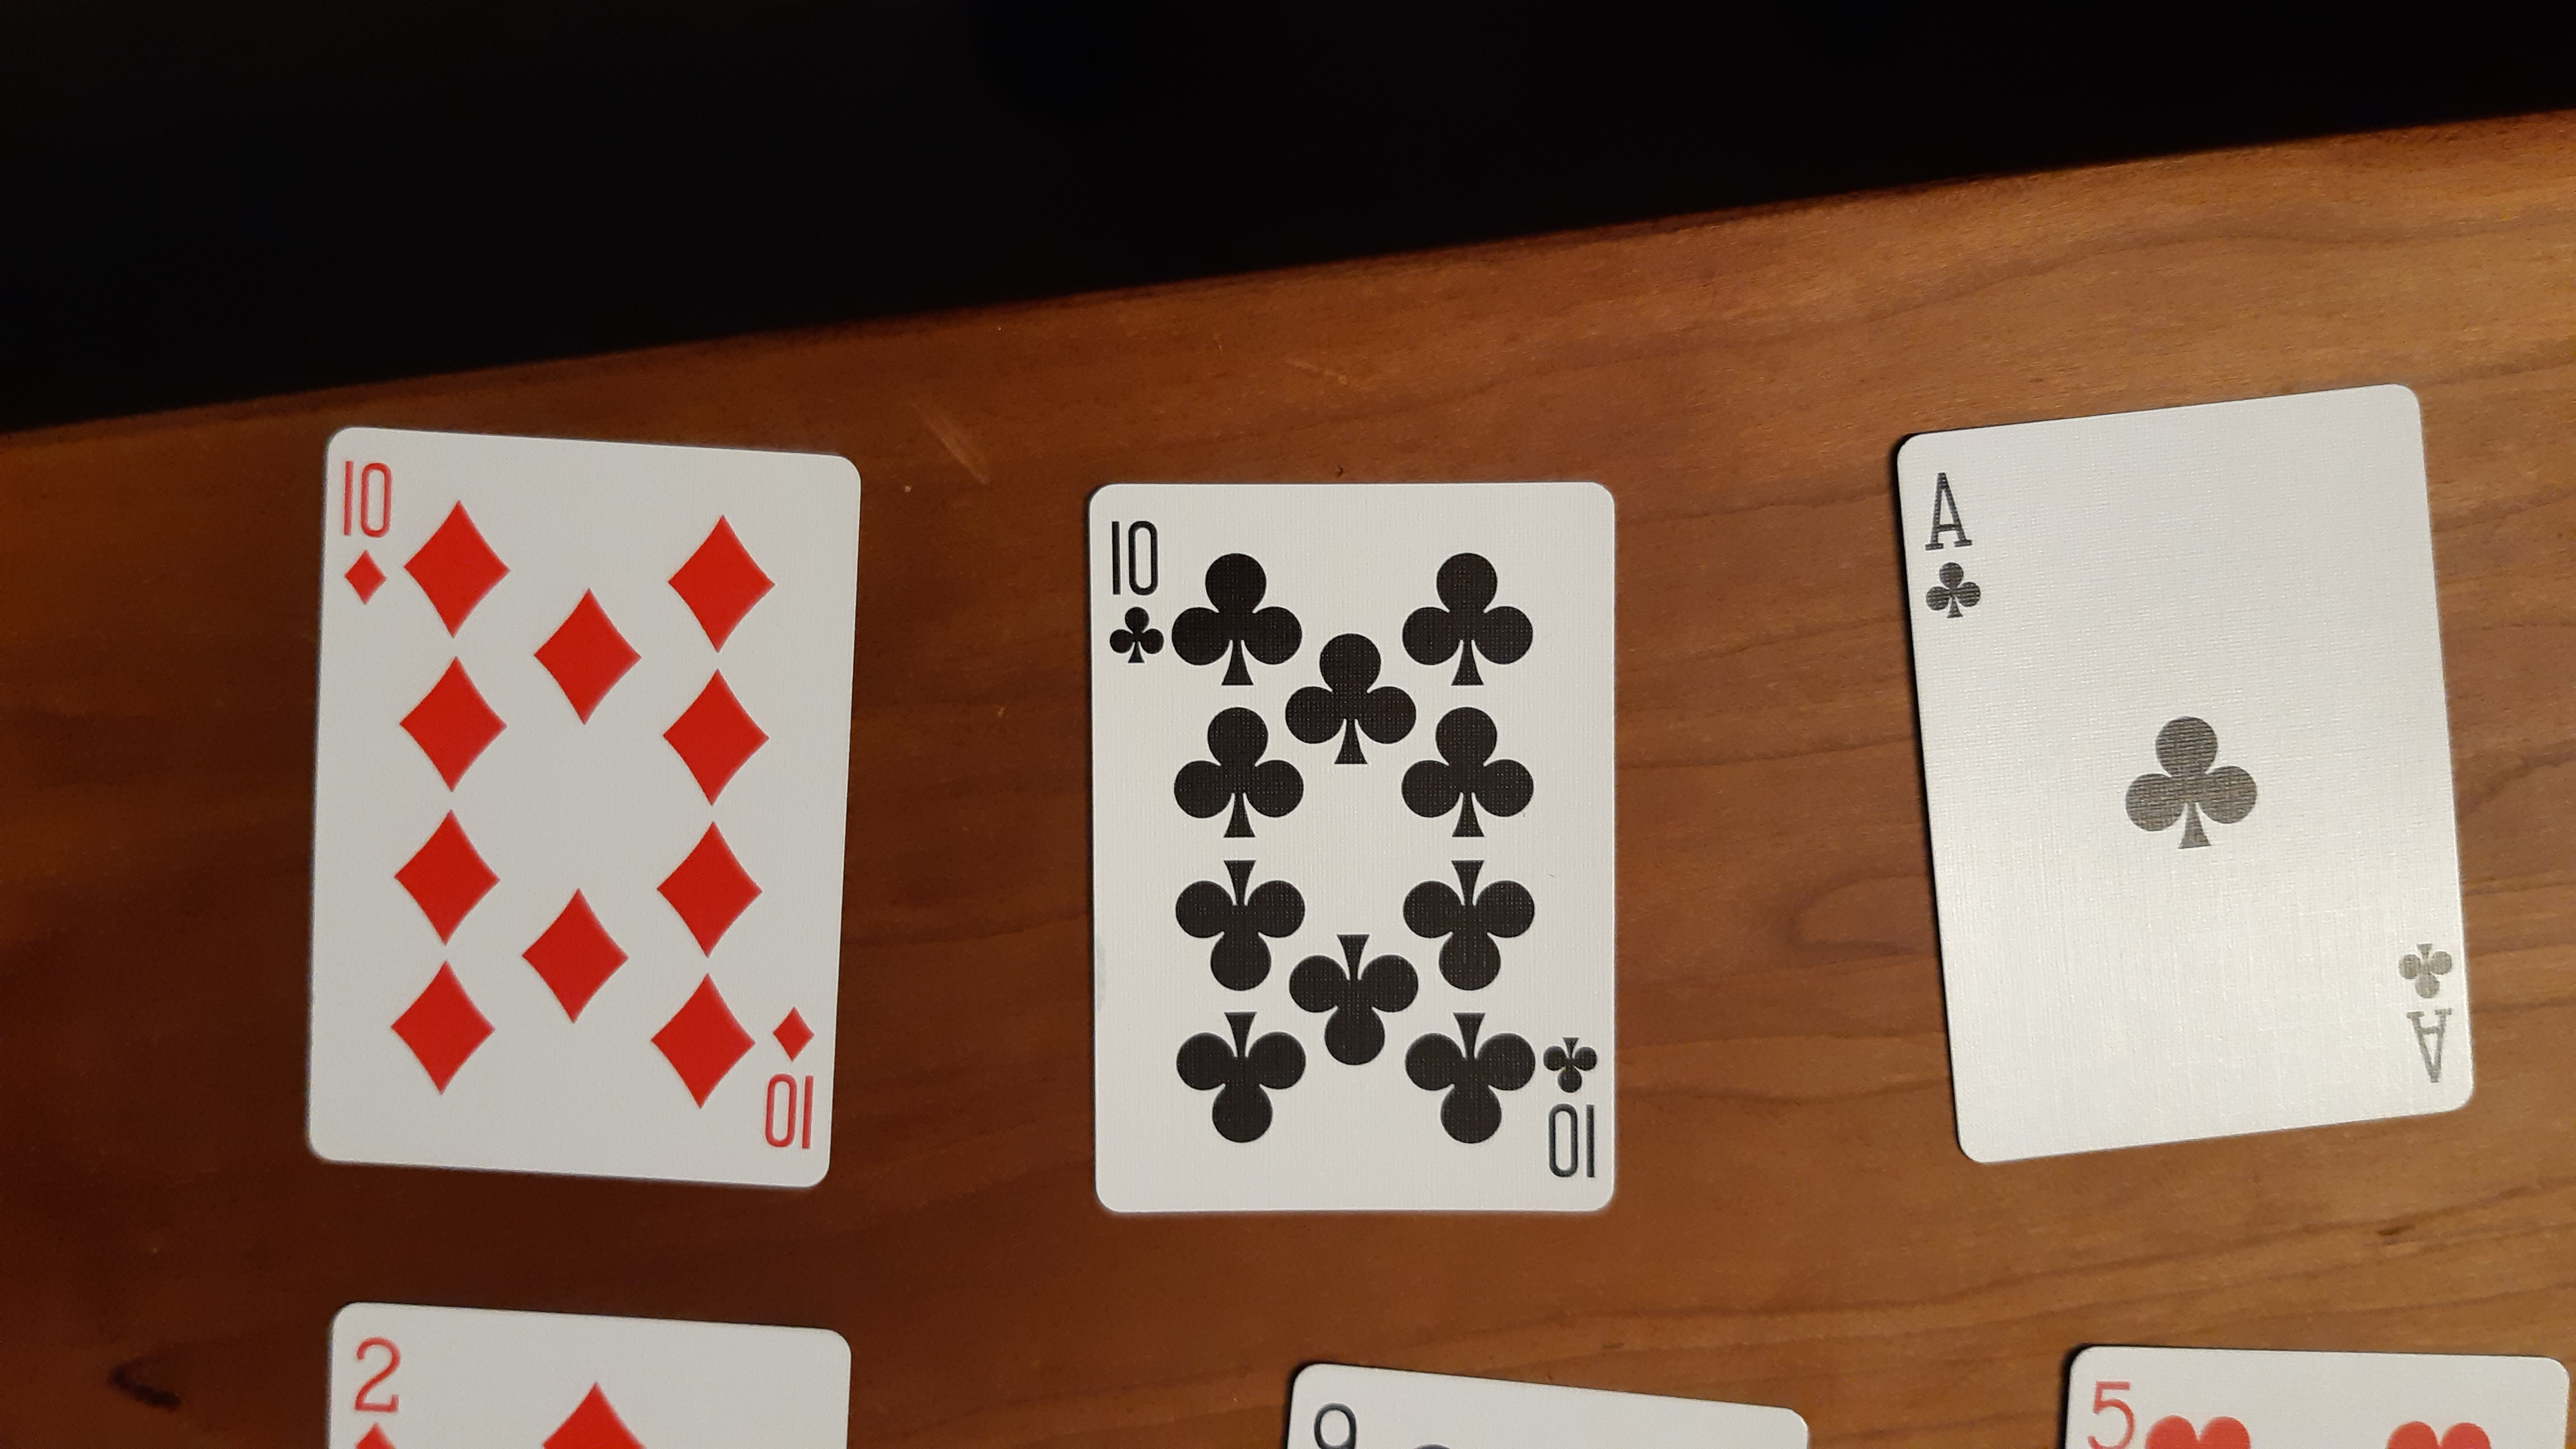Black_Club_10: (1534, 1028, 1606, 1191), (1104, 515, 1169, 674)
Black_Club_Ace: (1911, 462, 1990, 632), (2381, 934, 2463, 1090)
Red_Diamond_10: (327, 453, 402, 614), (750, 1007, 828, 1159)
Red_Diamond_2: (345, 1336, 667, 1449)
Red_Heart_5: (2084, 1371, 2534, 1449)
